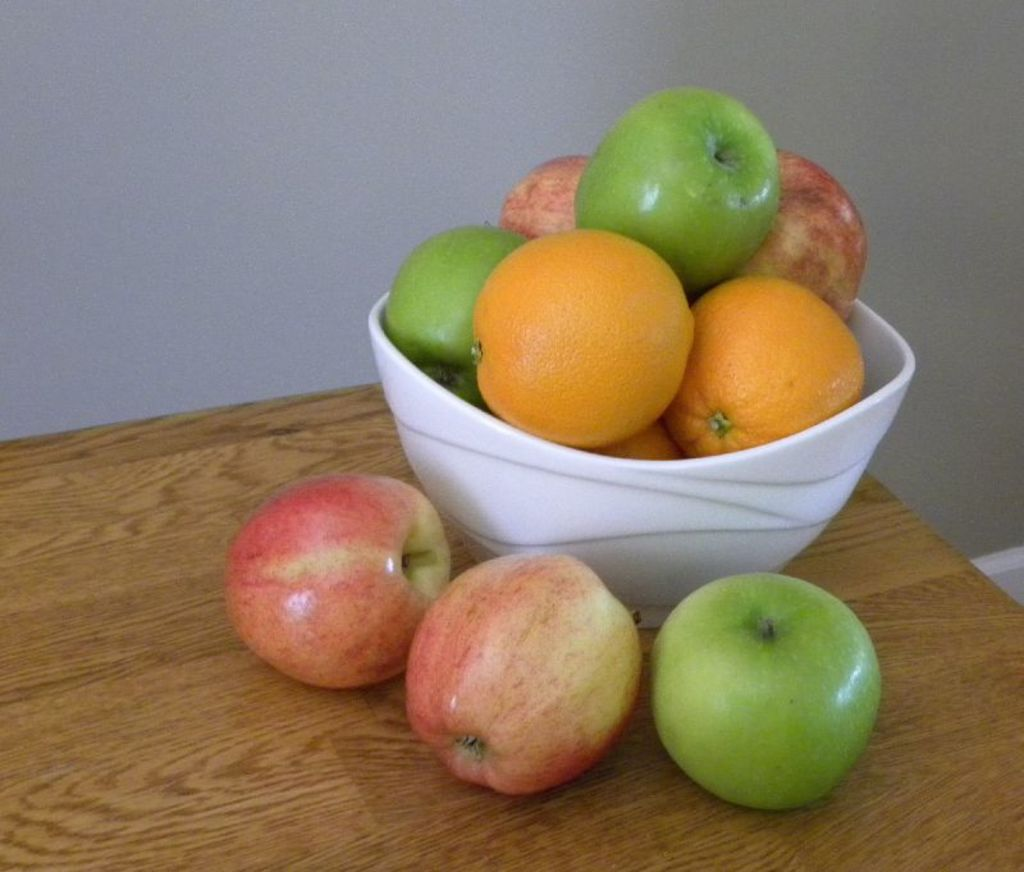Apple: (401, 548, 640, 795), (650, 569, 885, 816), (218, 472, 449, 692), (570, 90, 784, 293), (382, 224, 524, 402), (748, 145, 871, 321), (496, 149, 588, 239)
